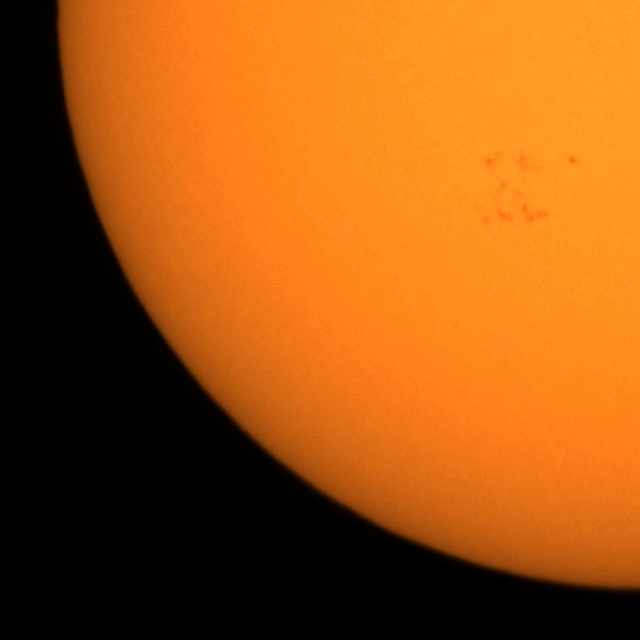sunspot: (520, 202, 548, 224), (566, 154, 578, 168)
